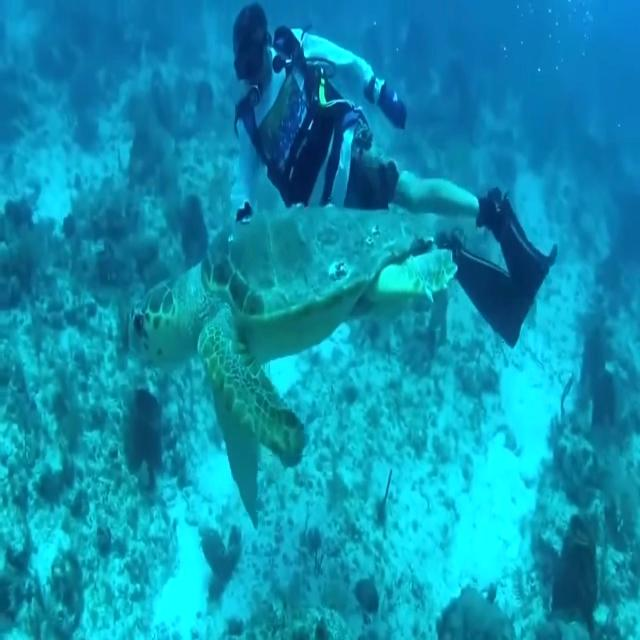Sea turtle: (124, 200, 458, 515)
